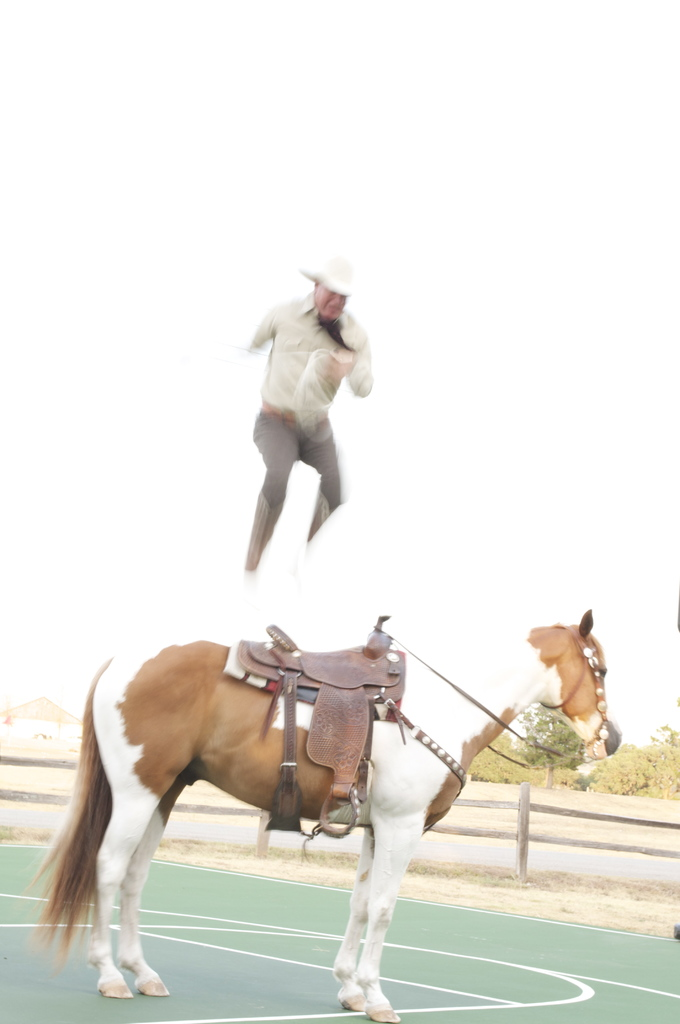horse: (22, 609, 621, 1022)
